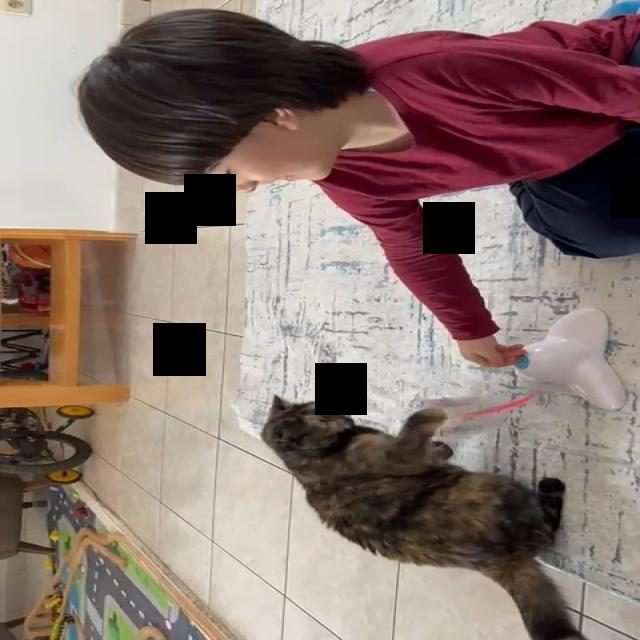authorized: (258, 393, 590, 639)
